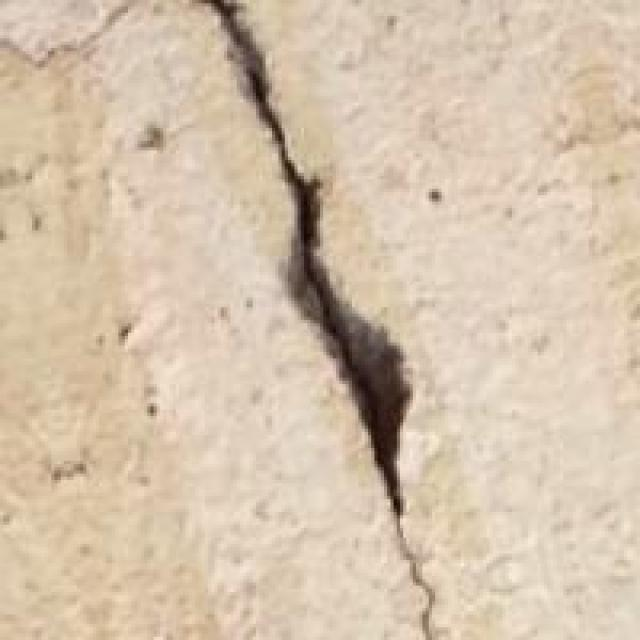crack: (167, 0, 502, 528)
